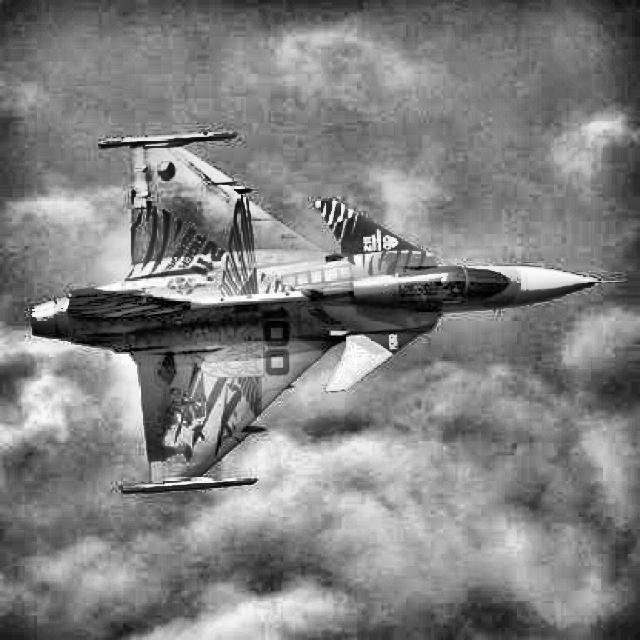JAS39: (31, 132, 624, 493)
